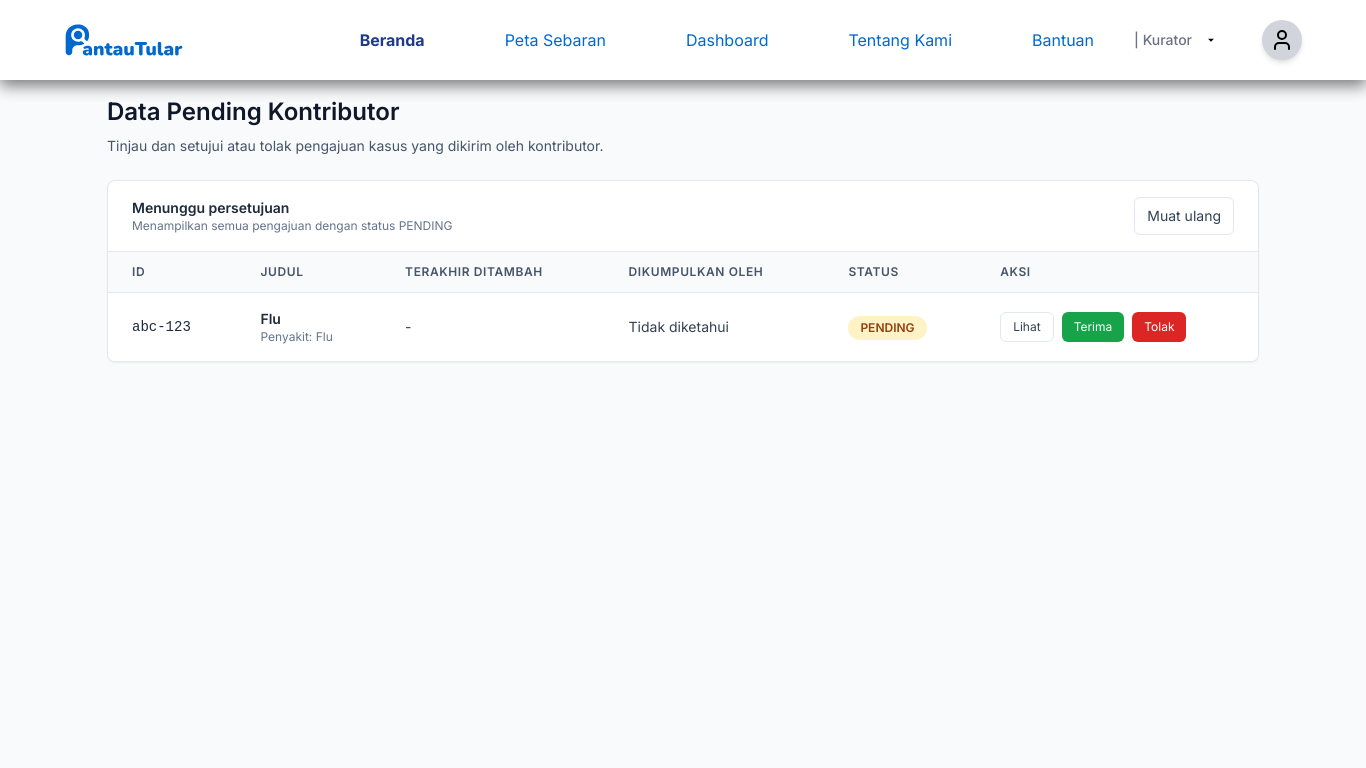
Test: action modal cancel closes modal
Click the button "Terima": (1093, 327) [1062, 312, 1124, 342]
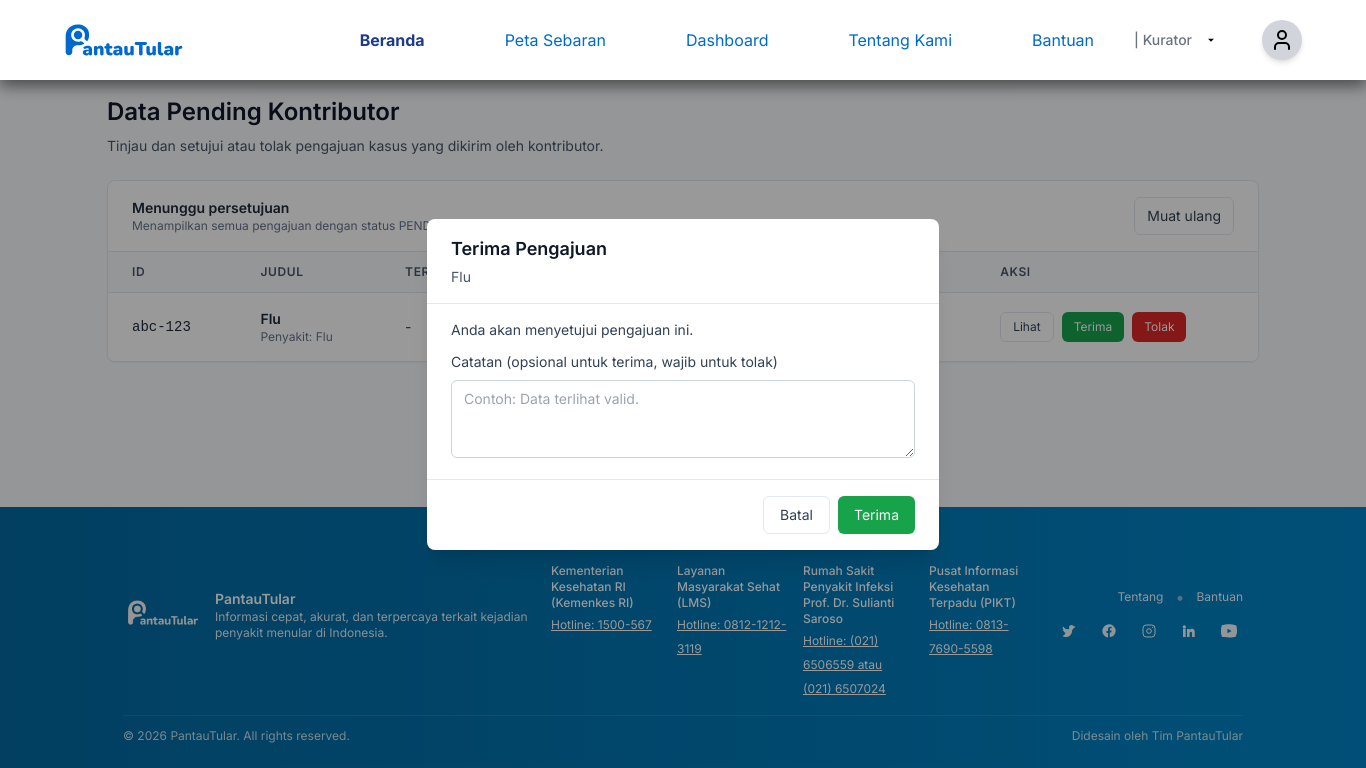
Expected: the heading "Terima Pengajuan" is shown, [451, 238, 607, 258]
Click the button "Batal": (796, 514) [763, 496, 830, 534]
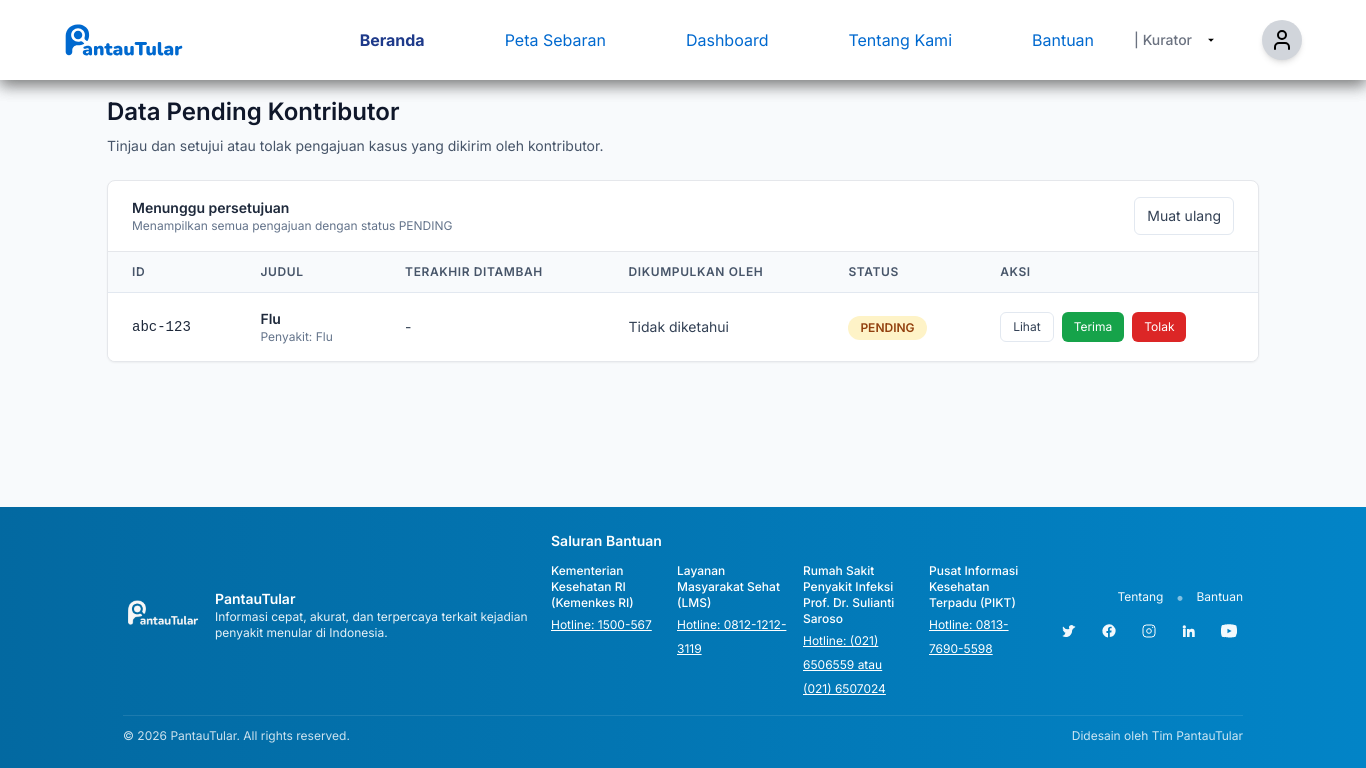
Expected: the heading "Terima Pengajuan" is gone
